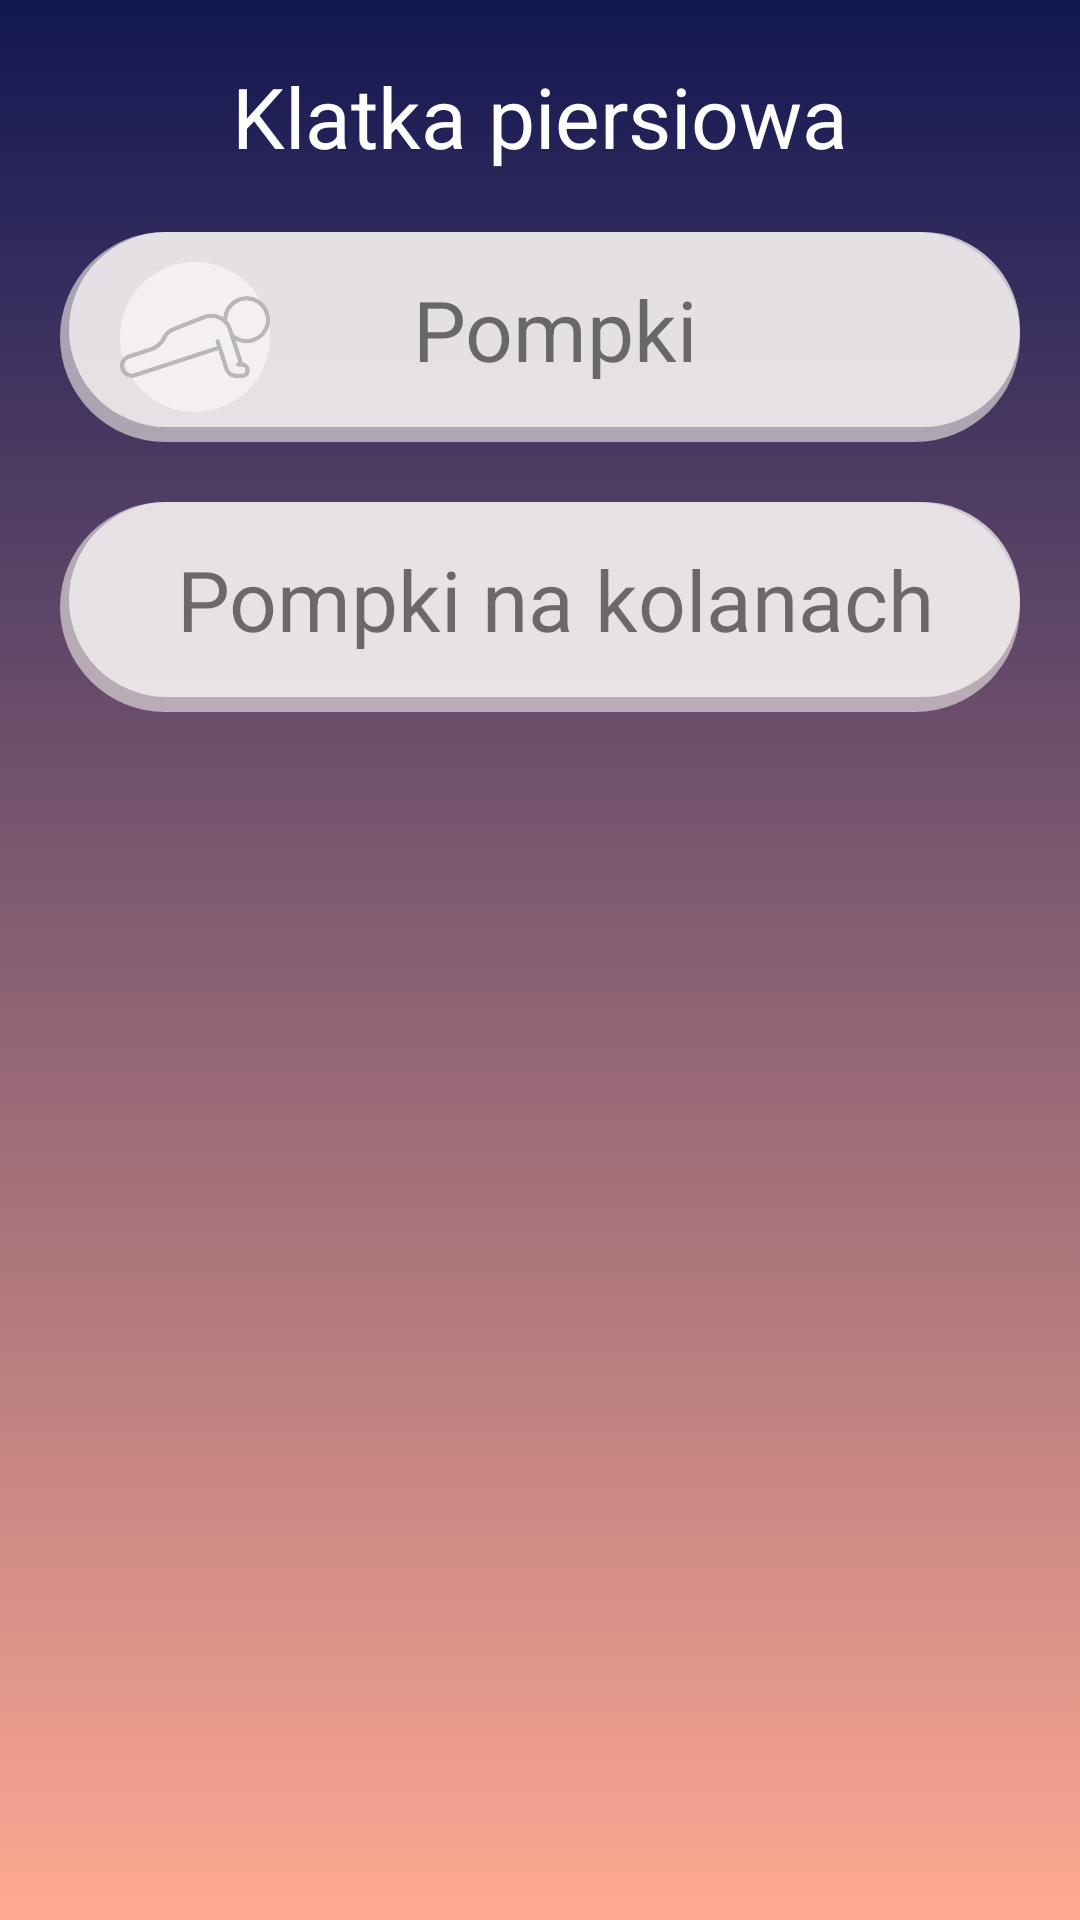

Named icons in this screenshot (1080w x 1920h) and their bounding boxes, (x1, y1, x2, y2):
chest pushup: (120, 262, 270, 412)
